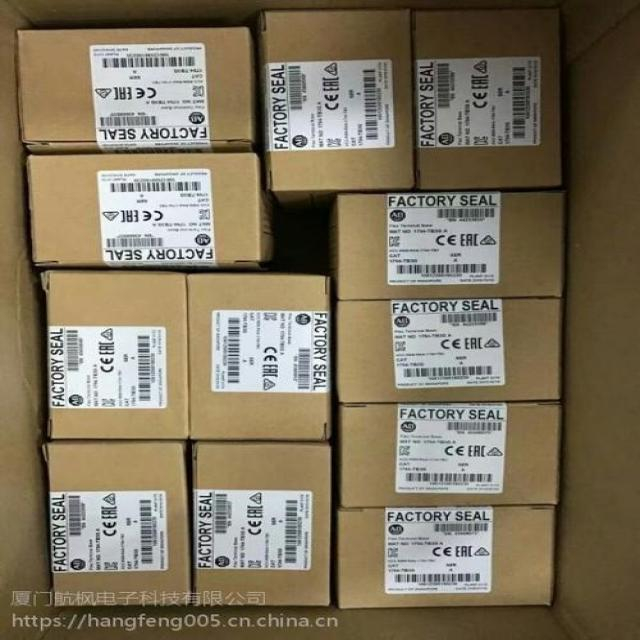box: (250, 9, 416, 215), (14, 27, 256, 154), (28, 153, 282, 274), (410, 9, 562, 193), (41, 267, 189, 441), (329, 296, 566, 404), (327, 193, 565, 300), (330, 401, 561, 508), (187, 271, 331, 442), (330, 504, 556, 608), (189, 441, 331, 606), (48, 440, 190, 604)
